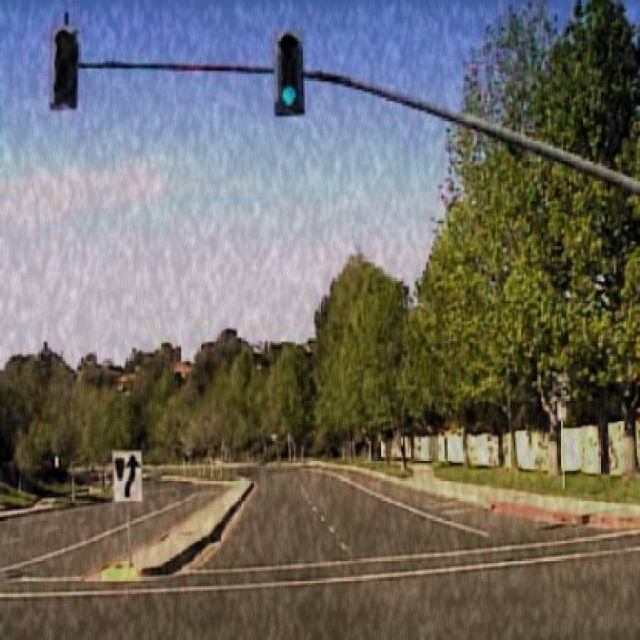keepRight: (112, 448, 142, 502)
